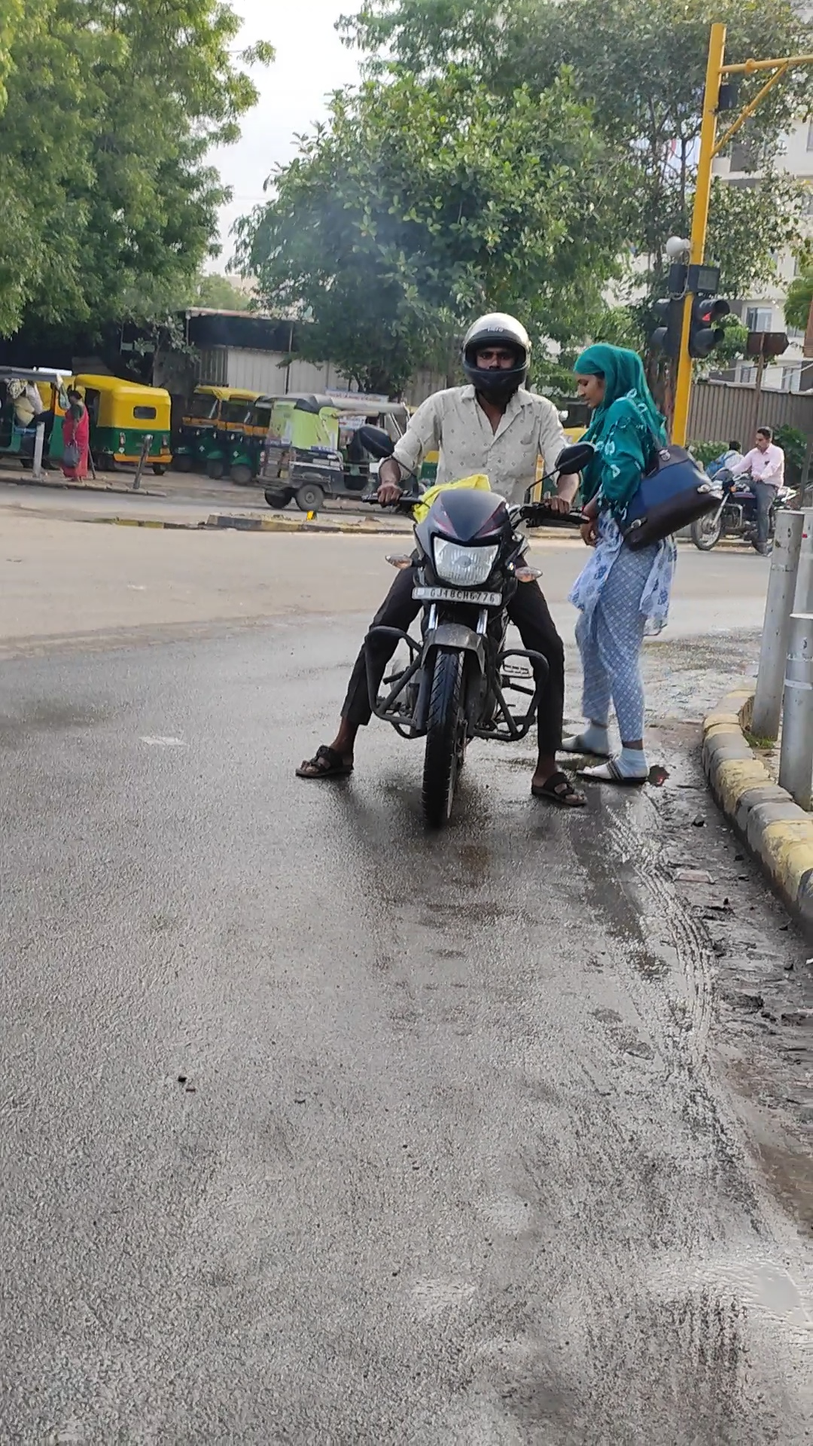BikeWithRider: (285, 312, 603, 831)
Helmet: (455, 315, 540, 401)
